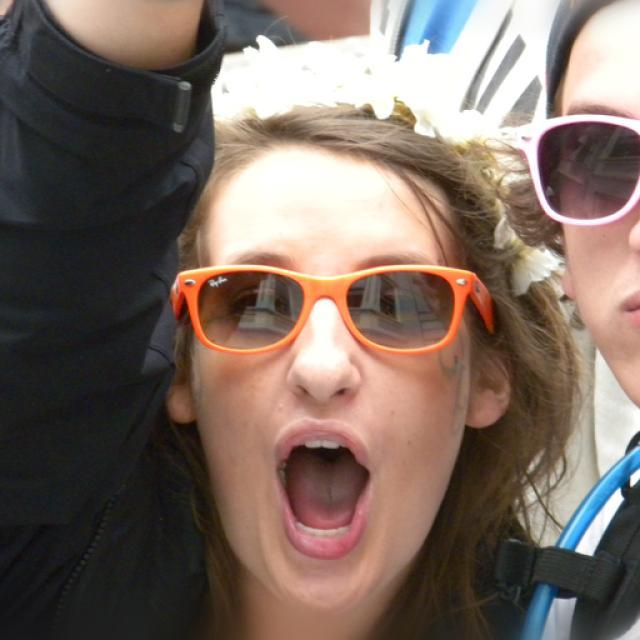surprise: (191, 141, 474, 613)
